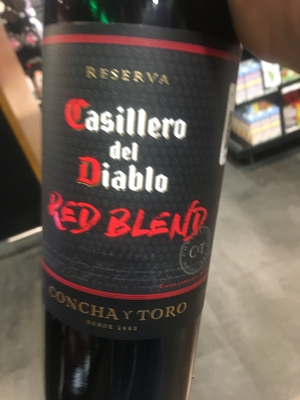casillero del diablo red blend: (32, 16, 249, 400)
